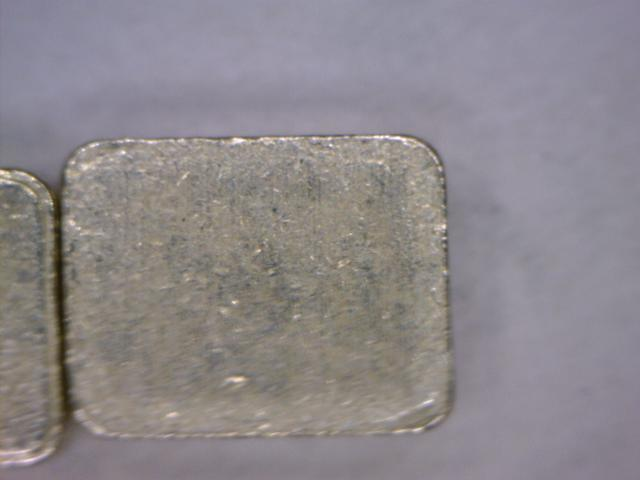ok: (63, 129, 460, 443)
